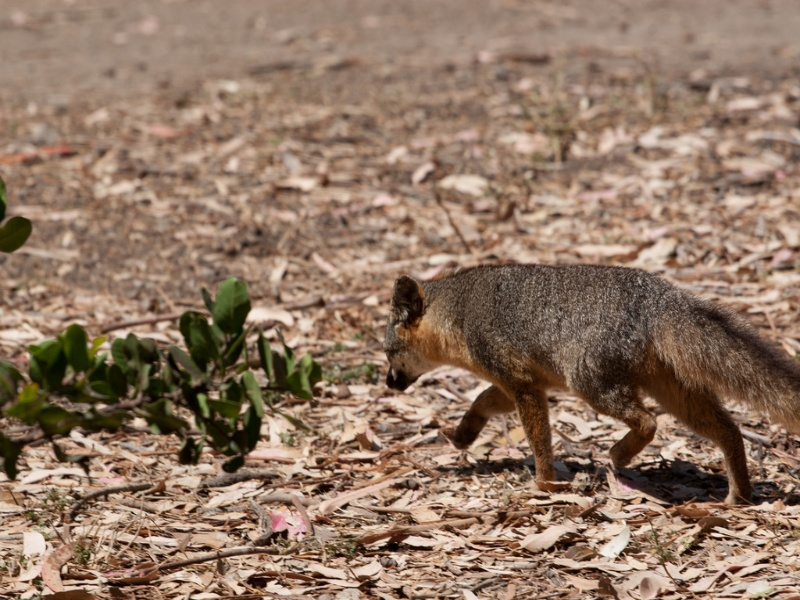fox: (380, 258, 800, 507)
